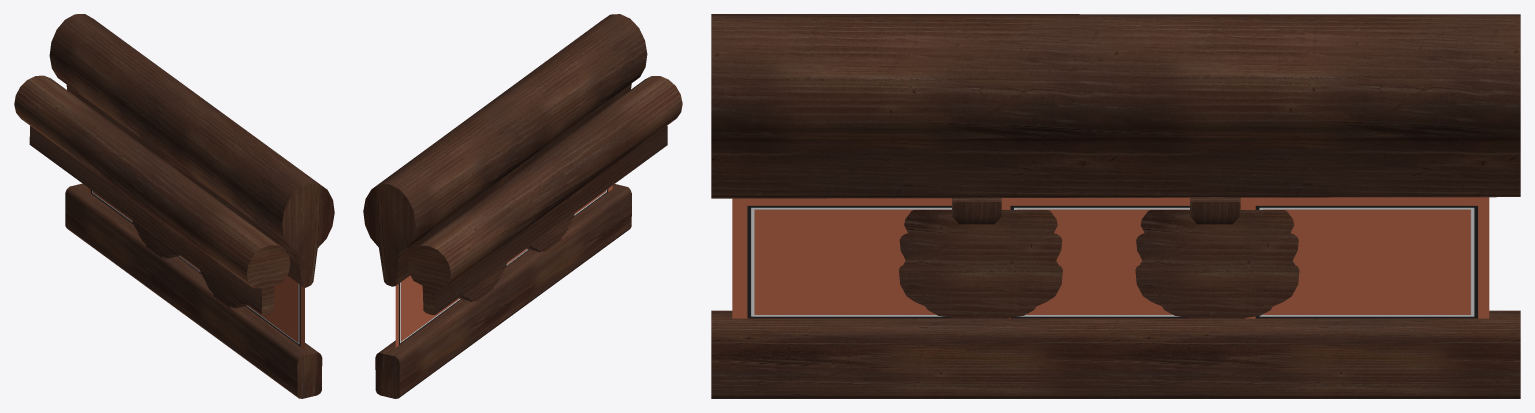
The model's file is SM_R_Dancheong_25.fbx.
The picture shows the model from 3 angles, left to right: view 1: azimuth 30°, elevation 25°; view 2: azimuth 150°, elevation 25°; view 3: azimuth 270°, elevation 25°; orthographic projection. The views are drawn at different scales.
Parts seen in each view (by area): view 1: SM_R_Dancheong_25; view 2: SM_R_Dancheong_25; view 3: SM_R_Dancheong_25.
Boxes of the visible parts, box(x1,y1,x2,y2) form: SM_R_Dancheong_25: box(14, 14, 334, 398); SM_R_Dancheong_25: box(363, 14, 682, 398); SM_R_Dancheong_25: box(711, 14, 1520, 398).
Bounding box in the file's own units: 73.23 × 334 × 170.
Materials: 3 (3 with a texture image).
